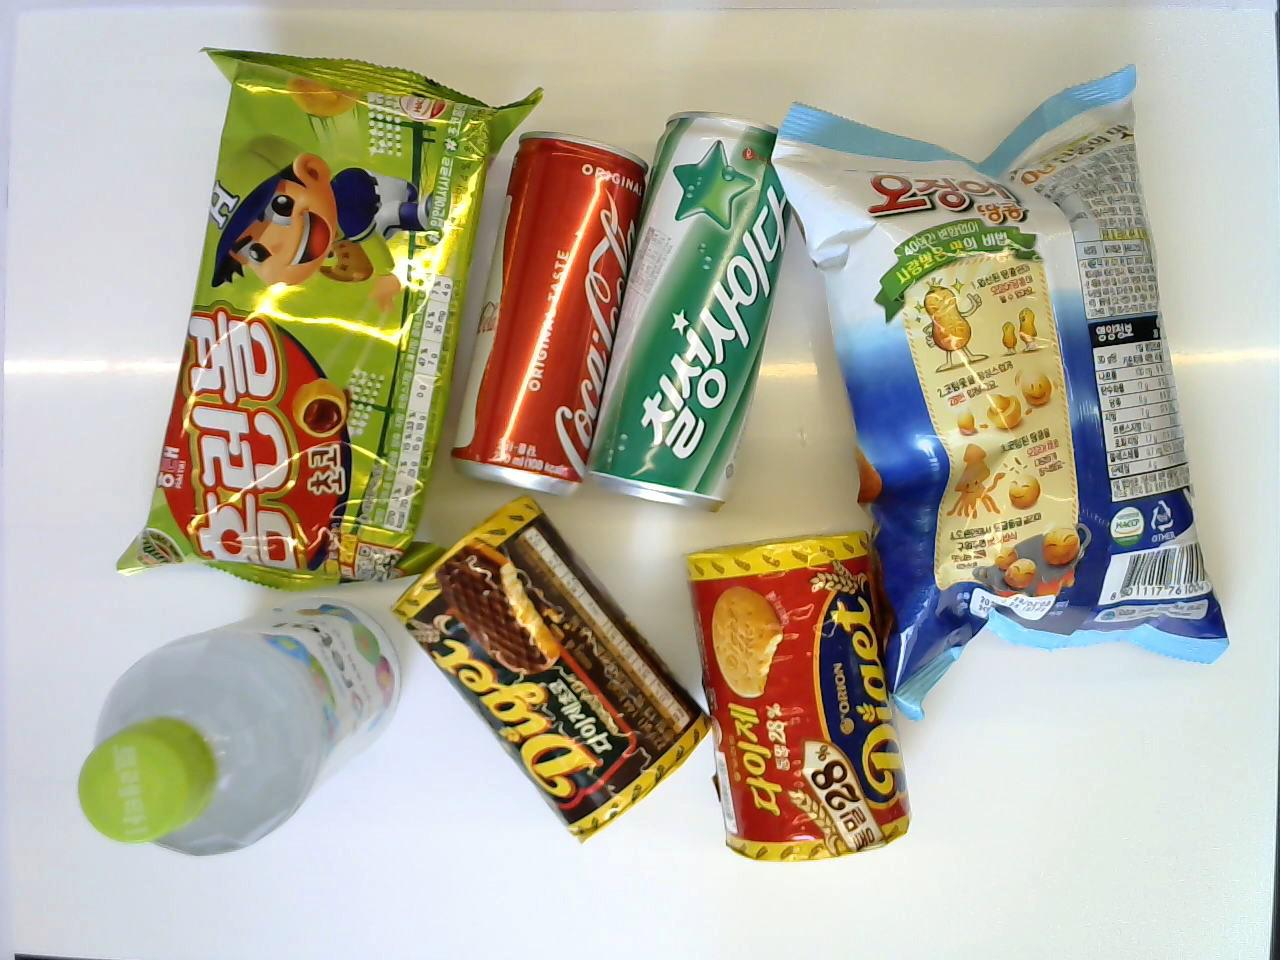cidar: (581, 104, 810, 512)
coke: (446, 133, 648, 500)
diget_choco: (398, 498, 713, 841)
diget_ori: (679, 542, 923, 860)
homerunball: (114, 41, 542, 596)
squid_peanut: (773, 63, 1237, 709)
toreta: (67, 591, 404, 870)
